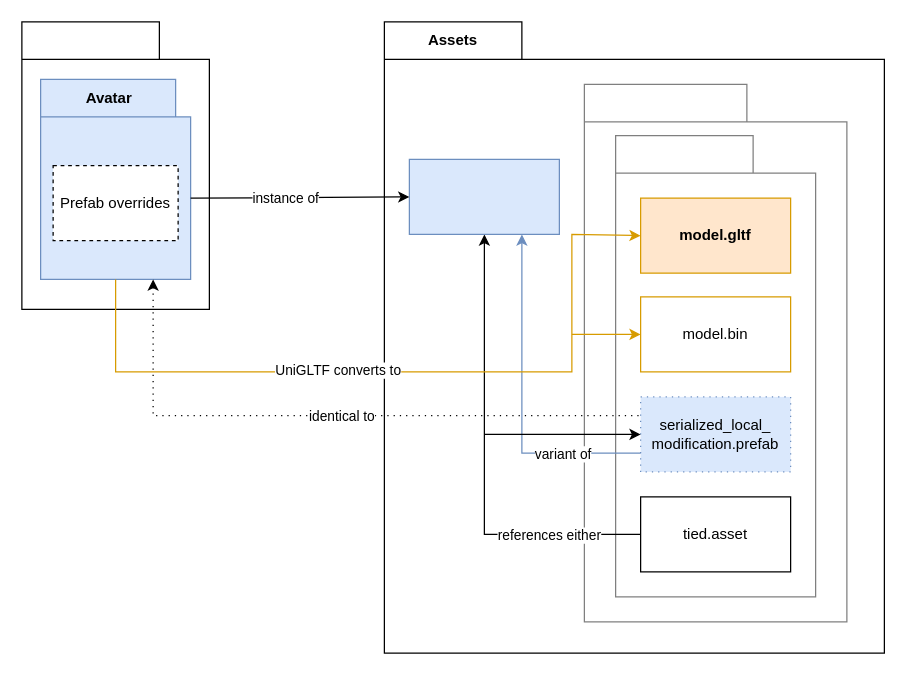
Image size: 906x675. Some labels were removed from this diagram. The box of each missing label's shape, as (x1, y1, x2, y2) in pixels:
Avatar.prefab: (408, 158, 559, 234)
Run_{date}-{time}: (614, 134, 816, 597)
Scene: (21, 21, 209, 309)
ZZZ_TemporalAsset: (583, 83, 847, 622)
